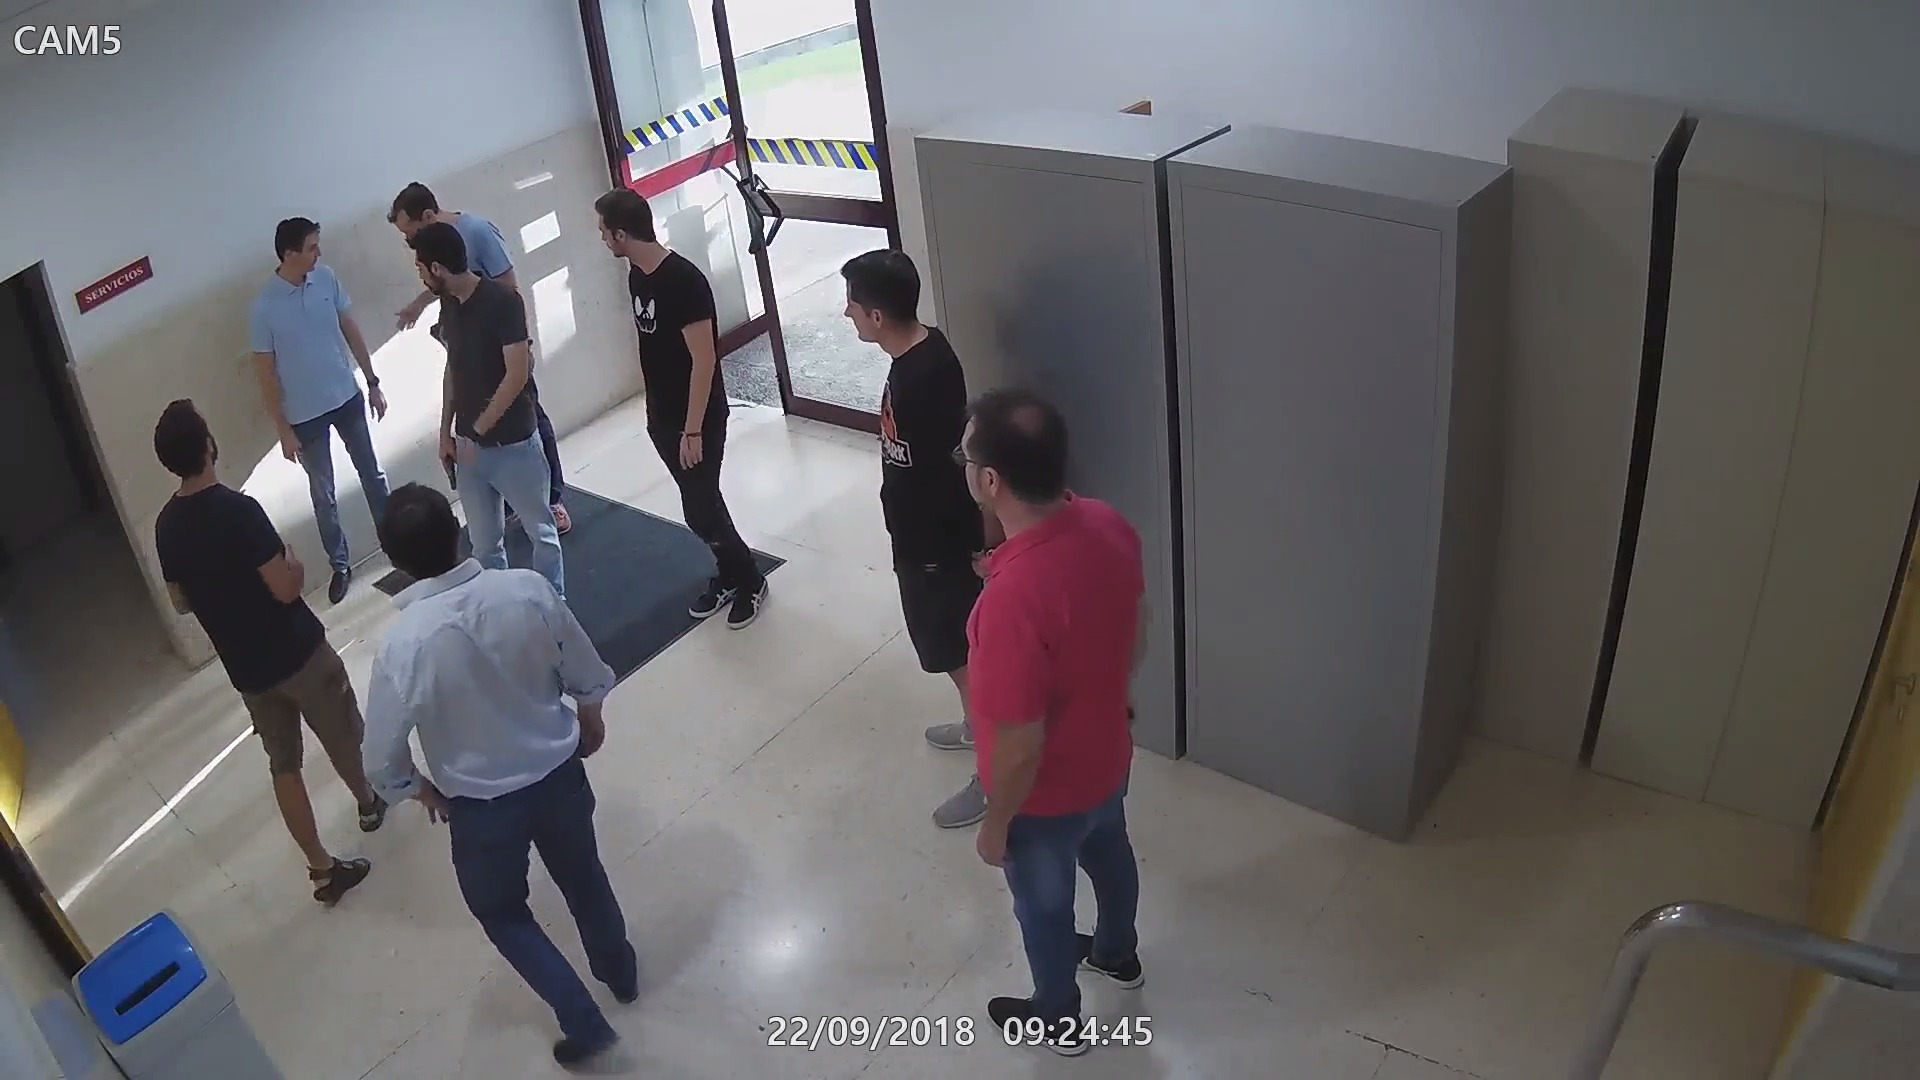Handgun: (429, 434, 462, 491)
